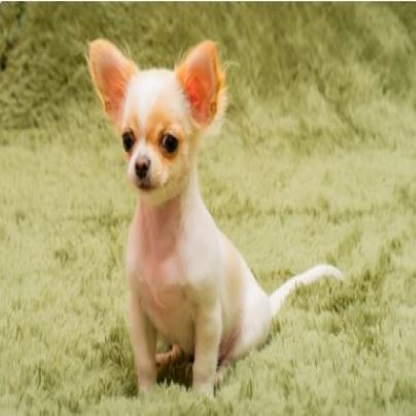chihuahua: (84, 35, 349, 391)
